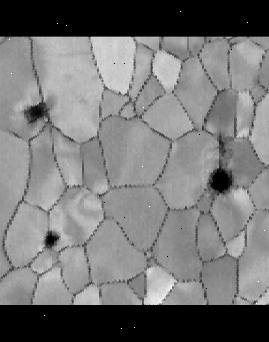good_void: (201, 161, 240, 197), (17, 96, 55, 129), (207, 130, 234, 160), (40, 228, 69, 250)
